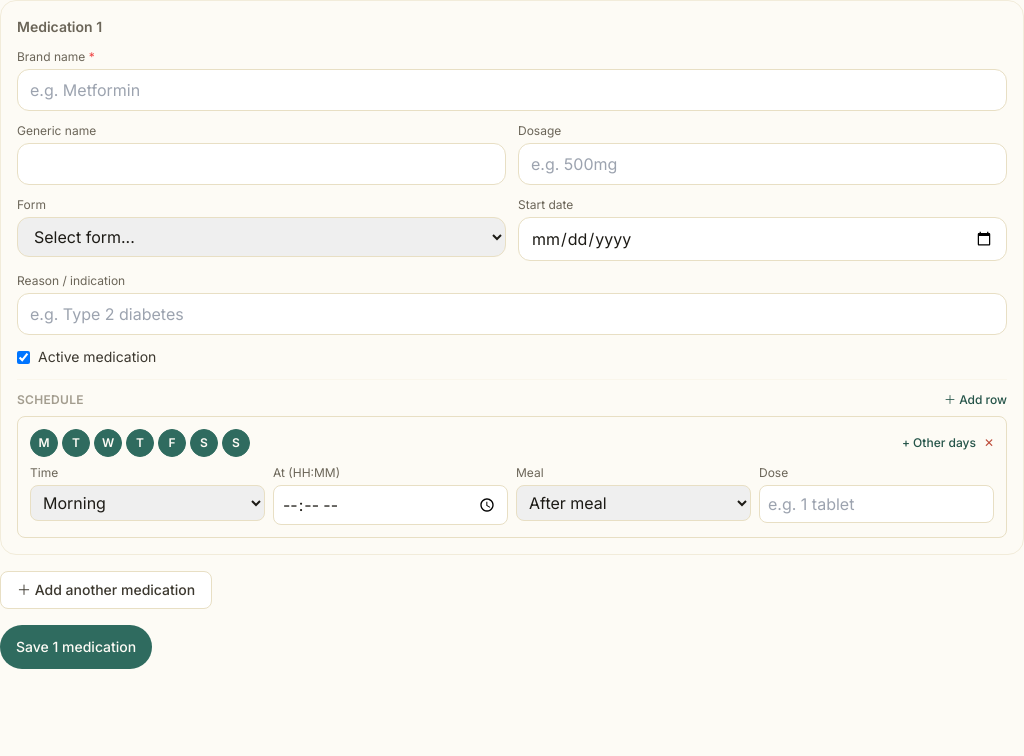
Test: MedicationForm › removes a schedule row
The width and height of the screenshot is (1024, 756).
Expected: the number of buttons "✕" is 1, [984,435,994,451]
What coordinates should you click on to do the following:
click the button "＋ Add row"
I would click on:
 (975, 400)
Its box is [944,392,1007,408].
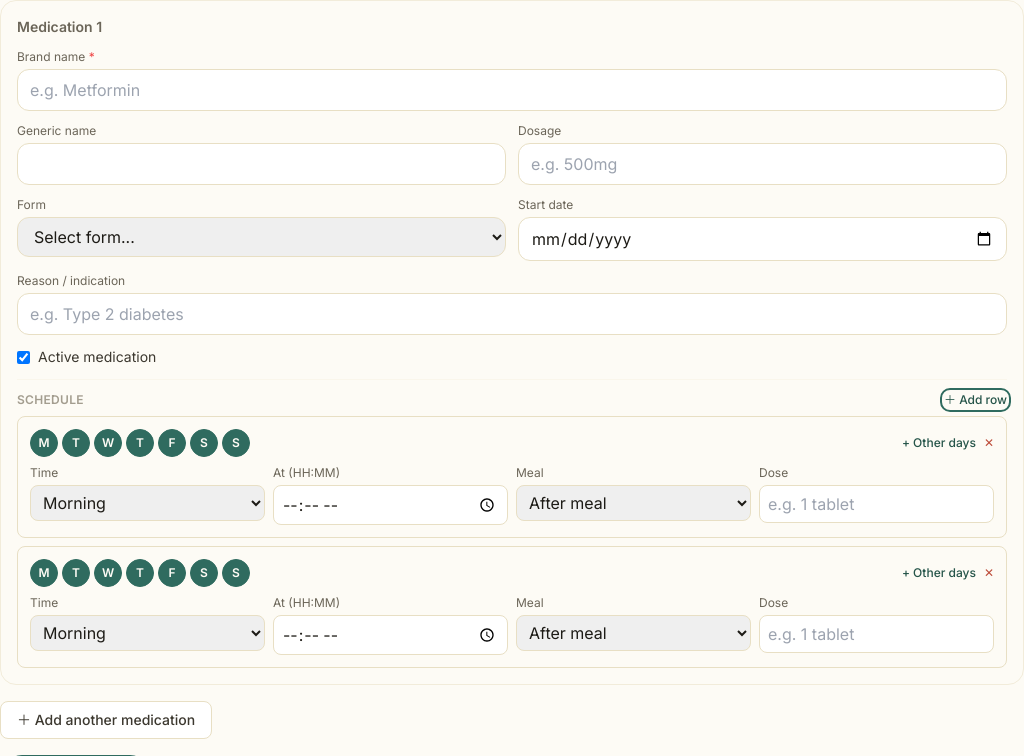
Expected: the number of buttons "✕" is 2
What coordinates should you click on to do the following:
click the 1st button "✕"
I would click on:
 (989, 443)
Its box is [984,435,994,451].
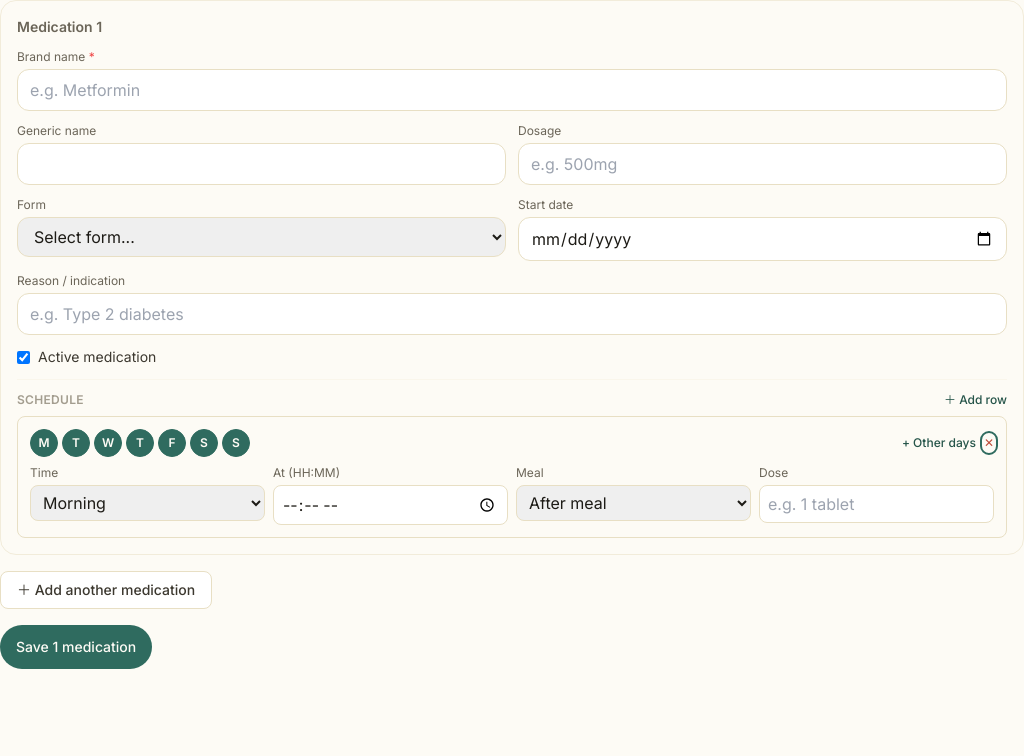
Expected: the number of buttons "✕" is 1, [984,435,994,451]
